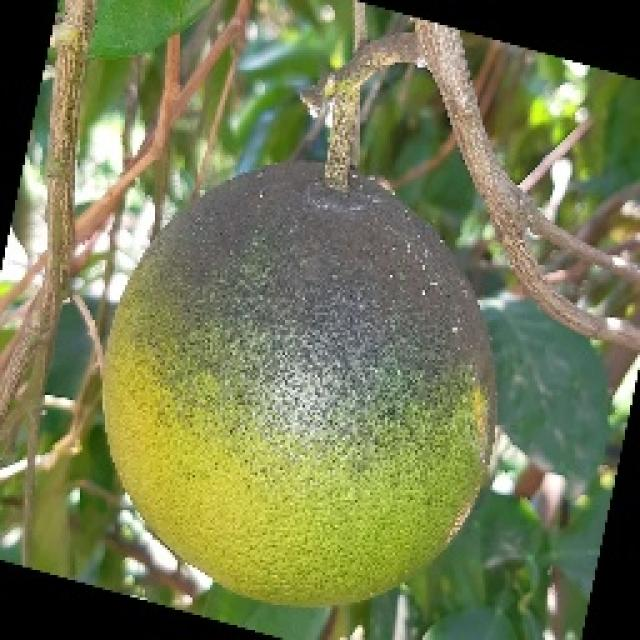Sooty Mold: (98, 155, 500, 607)
